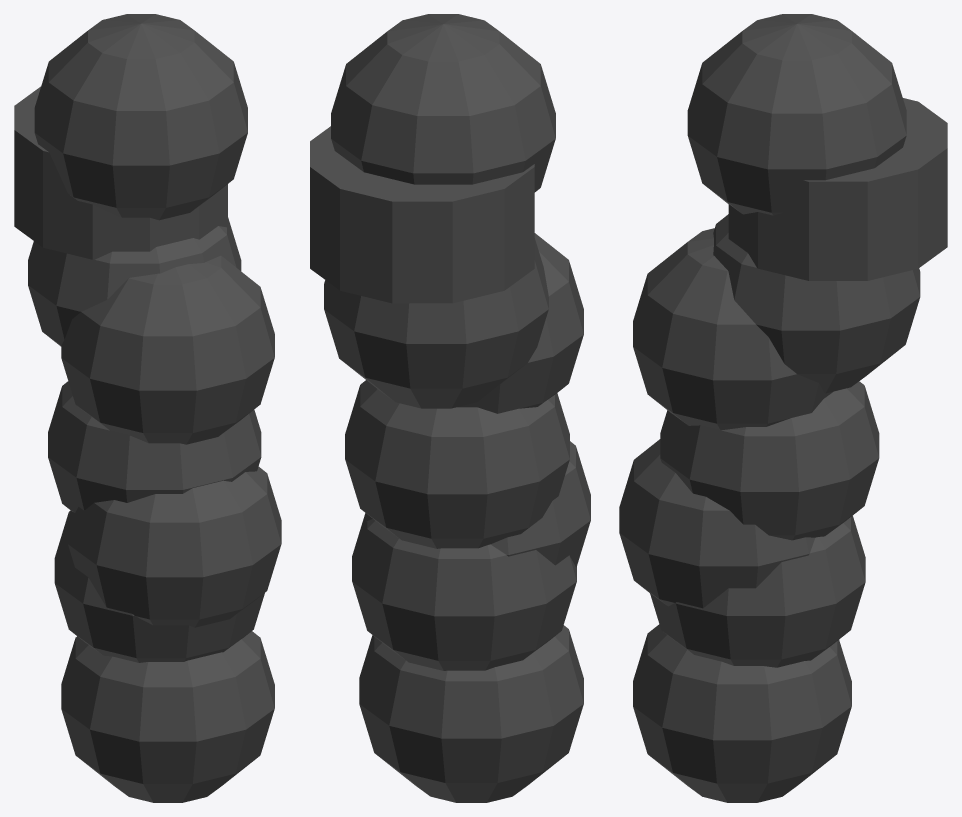
Rendered from pared nivel 2.gltf.
3 renders of one model, left to right at view 1: azimuth 30°, elevation 25°; view 2: azimuth 150°, elevation 25°; view 3: azimuth 270°, elevation 25°, orthographic. The views are drawn at different scales.
Parts seen in each view (by area): view 1: sphere (×7), cylinder; view 2: sphere (×7), cylinder; view 3: sphere (×7), cylinder.
Part boxes in pixels (x1,y1,x2,y2): sphere (×7): (28,14,281,802); cylinder: (14,86,227,259); sphere (×7): (324,14,590,802); cylinder: (310,126,534,303); sphere (×7): (619,14,920,802); cylinder: (728,98,947,280).
Size of the model in its own units: 1 by 3.88 by 1.5.
1 material, 1 textured.
